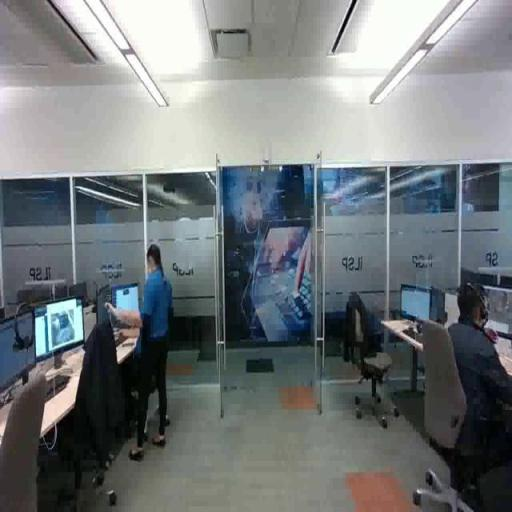person: (425, 273, 512, 512), (108, 235, 178, 466)
